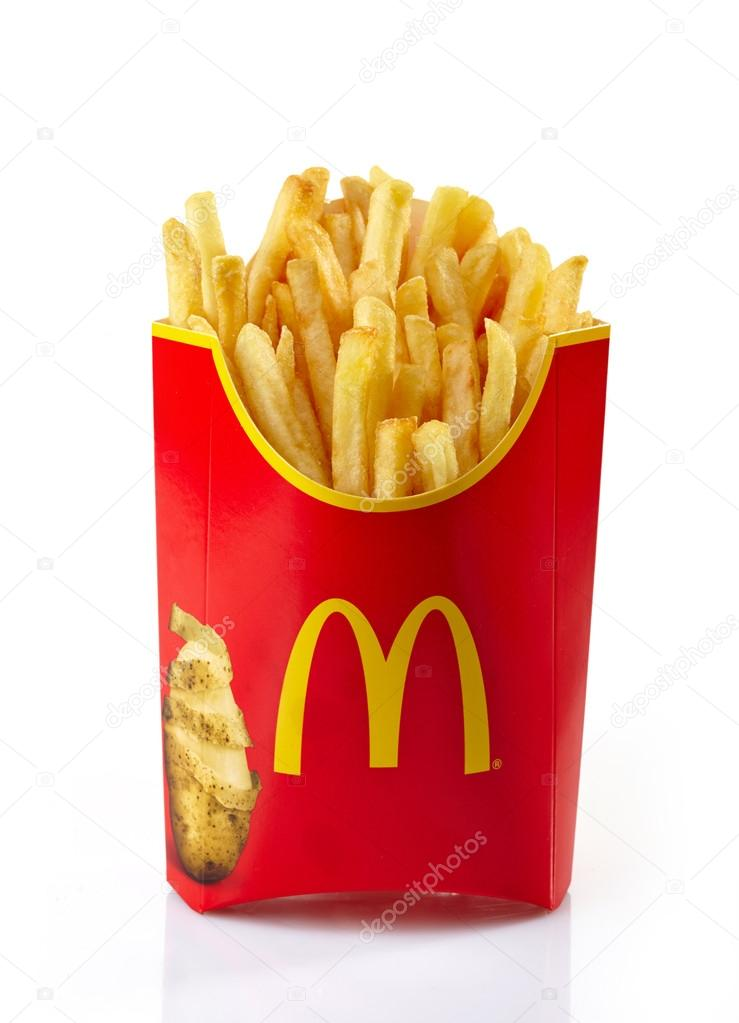mcdonalds: (247, 584, 510, 788)
